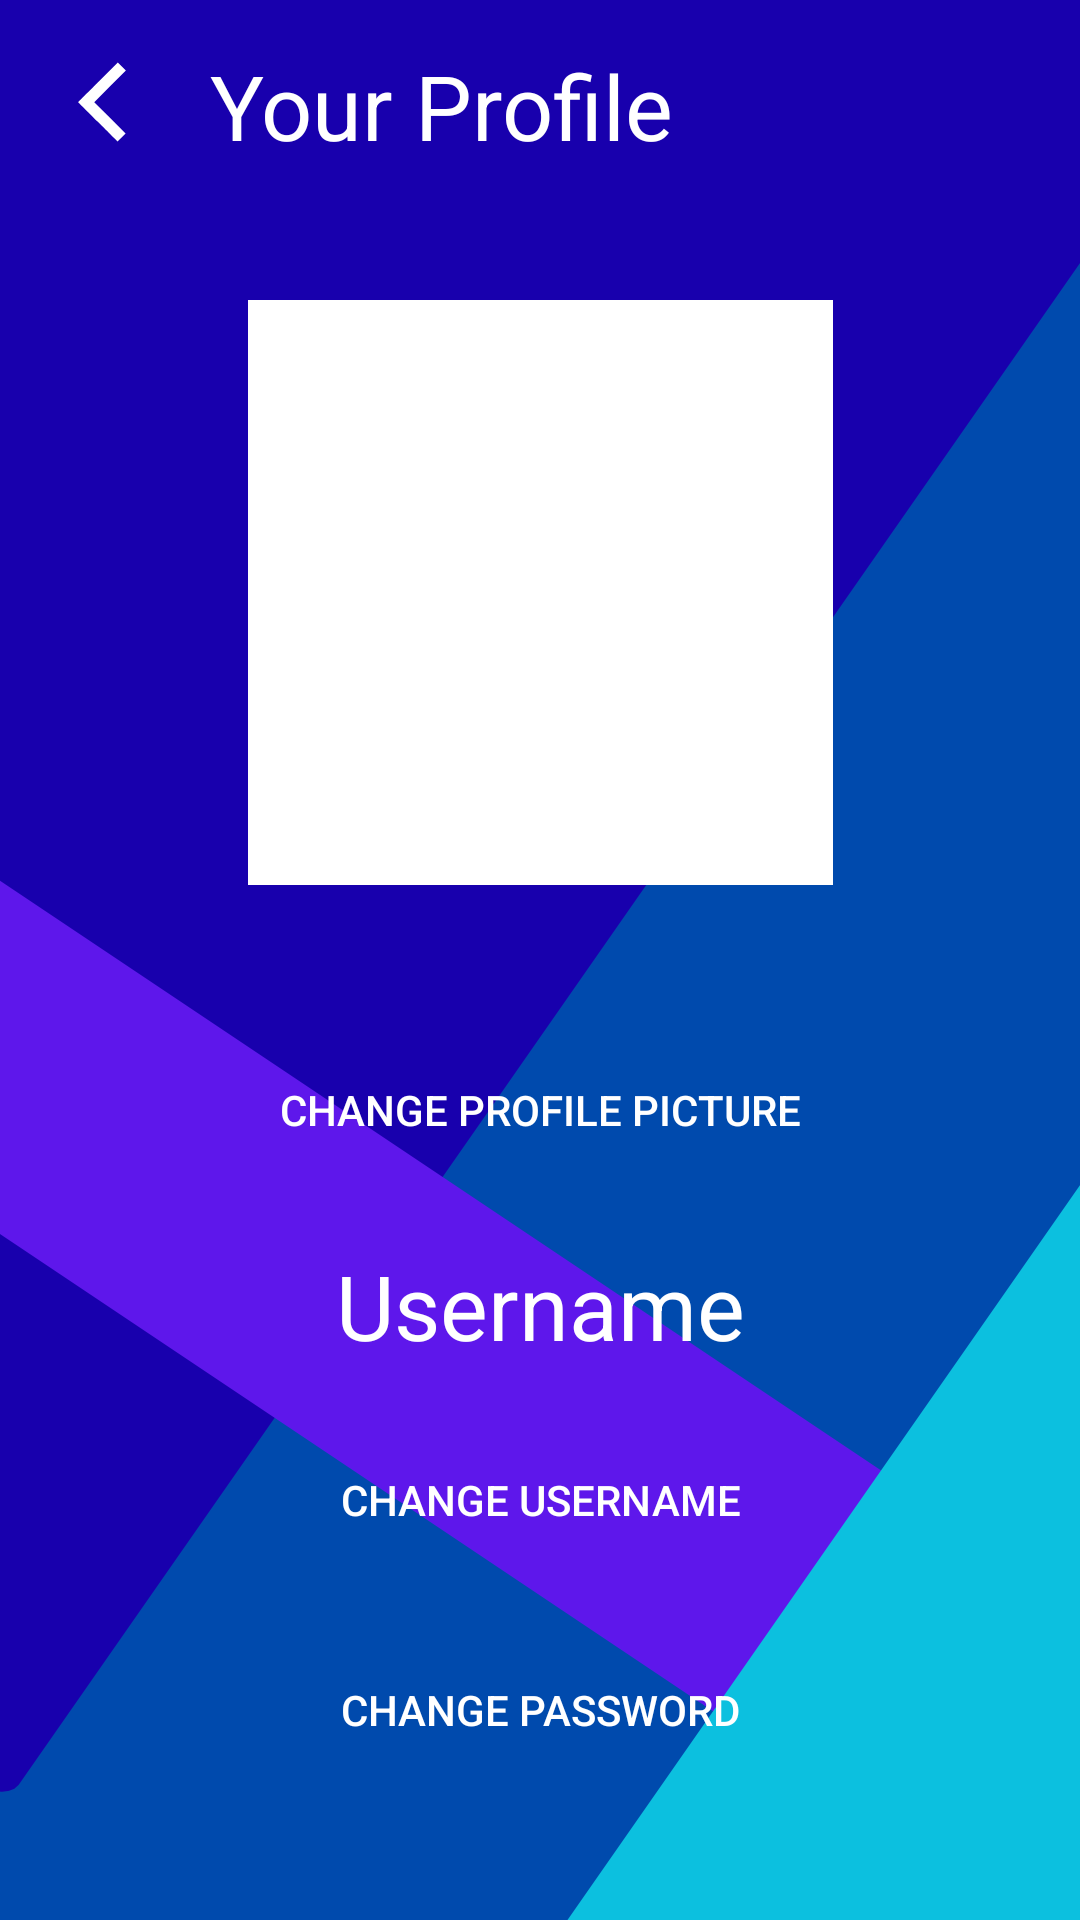

Where to tap for icons on this 1080 x 1920 app screen, as [x,y]:
back: [102,102]
